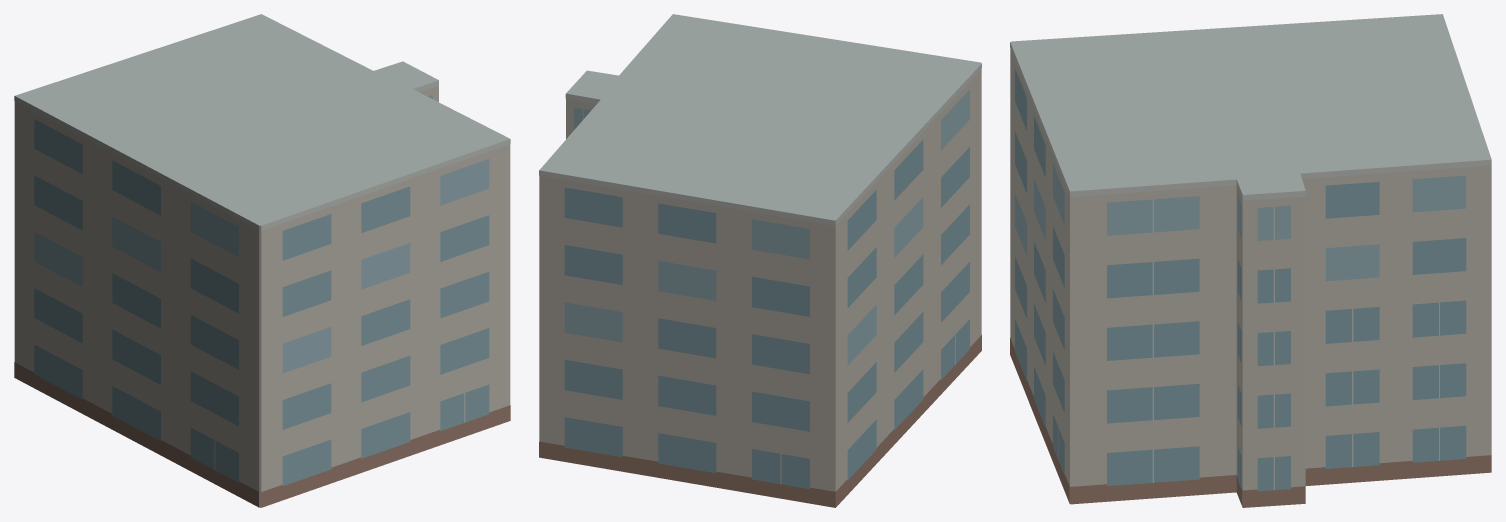
The model's file is survey-upis-32821011.glb.
The picture shows the model from 3 angles, left to right: view 1: azimuth 30°, elevation 25°; view 2: azimuth 150°, elevation 25°; view 3: azimuth 270°, elevation 25°; orthographic projection. The views are drawn at different scales.
Parts seen in each view (by area): view 1: survey-upis-32821011.tmp; view 2: survey-upis-32821011.tmp; view 3: survey-upis-32821011.tmp.
Part boxes in pixels (bbox=[...]): survey-upis-32821011.tmp: bbox=[14, 14, 510, 507]; survey-upis-32821011.tmp: bbox=[539, 14, 981, 507]; survey-upis-32821011.tmp: bbox=[1010, 14, 1491, 507].
Size of the model in its own units: 16.76 by 13.5 by 18.84.
